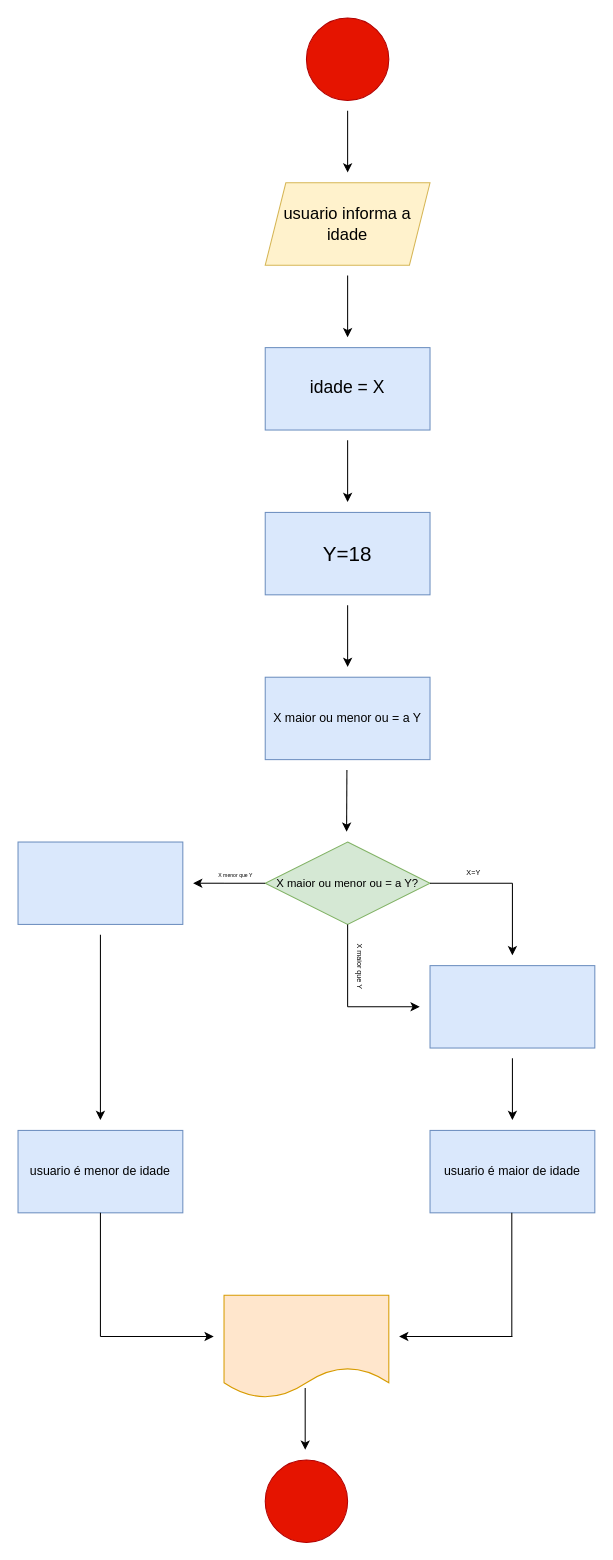
Some shapes in this 613 by 1560 pixel diagram are drawn without their labels. The centre of each missing label's shape, as x and y in pixels:
idade do usuario é maior ou igual a 18: point 512,1006
idade do usuario é menor que 18: point 100,882
imprimir resultado: point 306,1346
